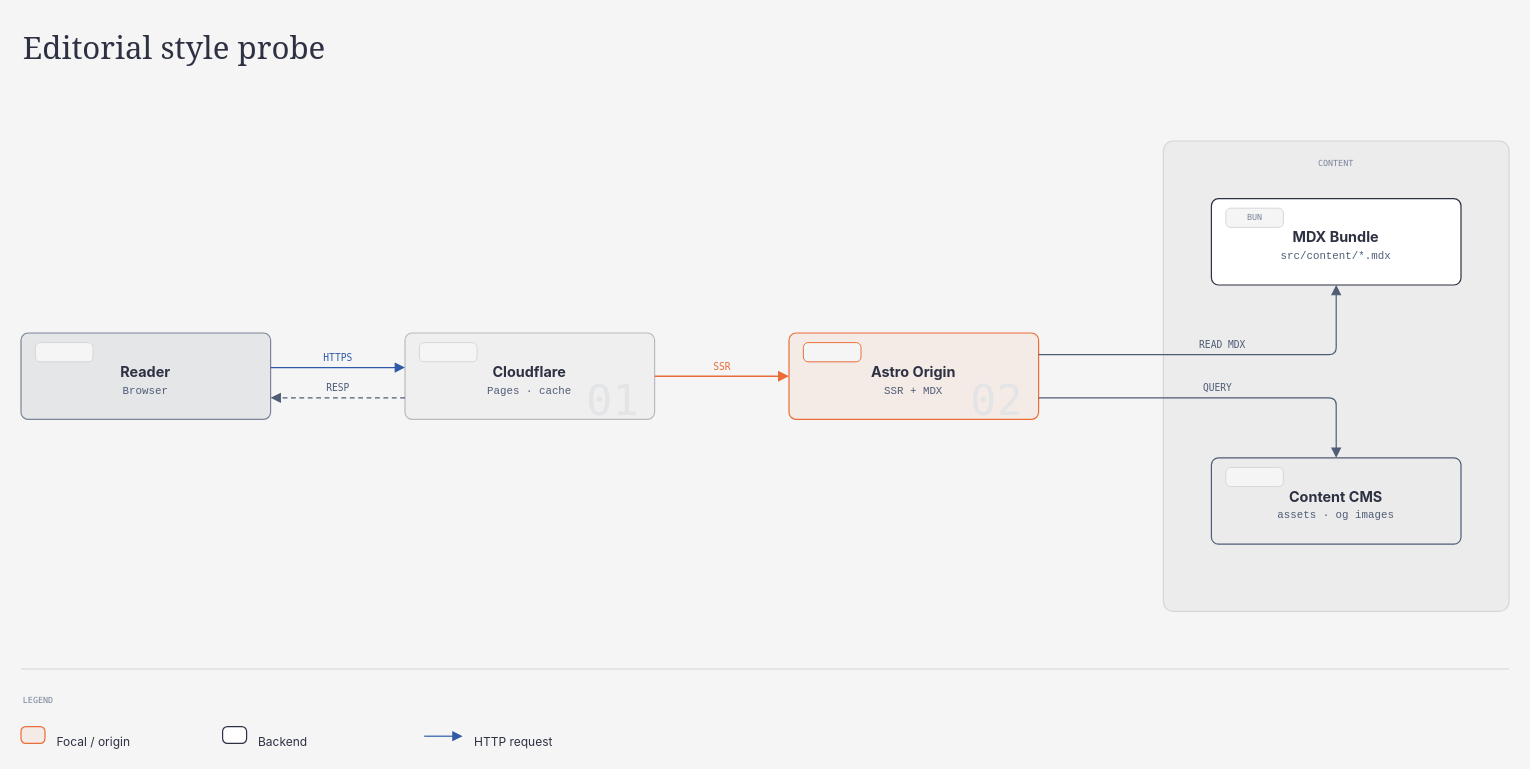
The diagram is 1530 pixels wide and 769 high, and some of its shapes have lost their labels. Each missing label, with the centre of its shape:
"CMS" belongs at pixel 1254 476.
"EDGE" belongs at pixel 447 352.
"EXT" belongs at pixel 63 352.
"ORIG" belongs at pixel 831 352.
